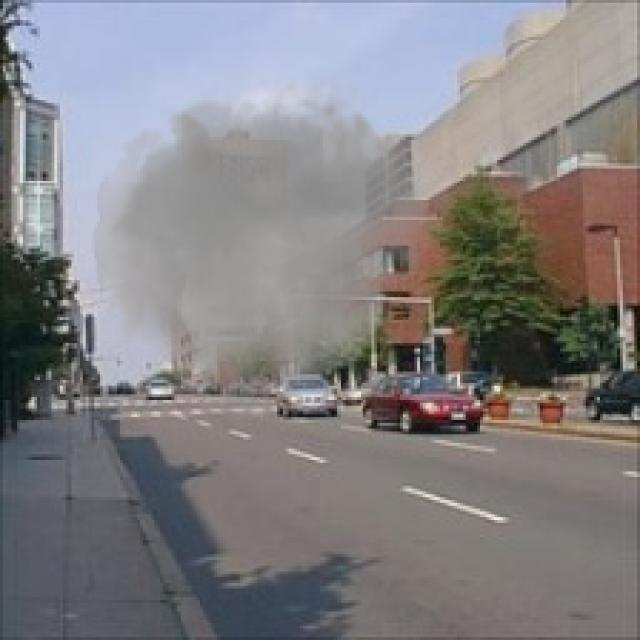smoke: (83, 63, 457, 437)
